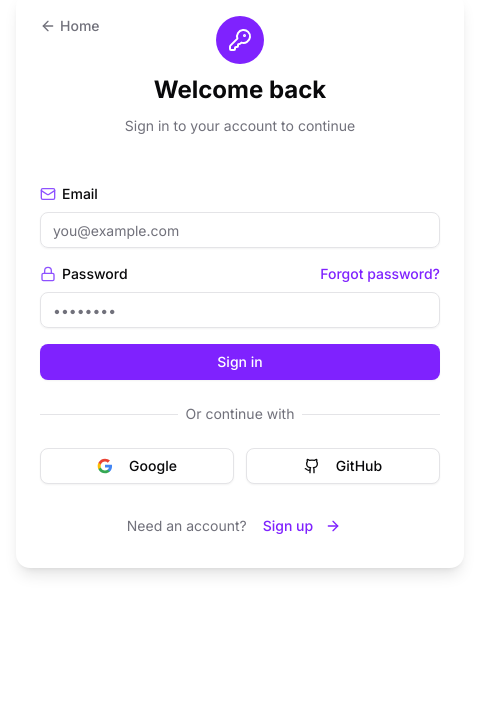
Test case: SignInForm › handles resend verification loading state
The image size is (481, 712).
Type "test@example.com" into the field labelled "Email" at (240, 230), box [40,212,440,248]
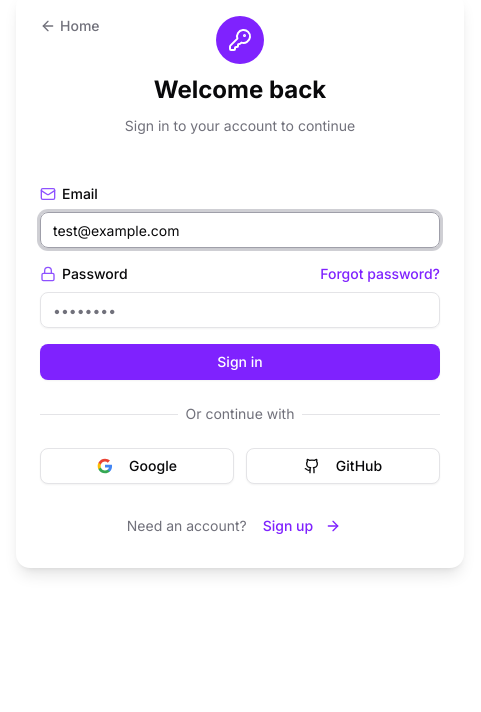
Type "Password123!" into the password field labelled "Password" at (240, 310), box [40,292,440,328]
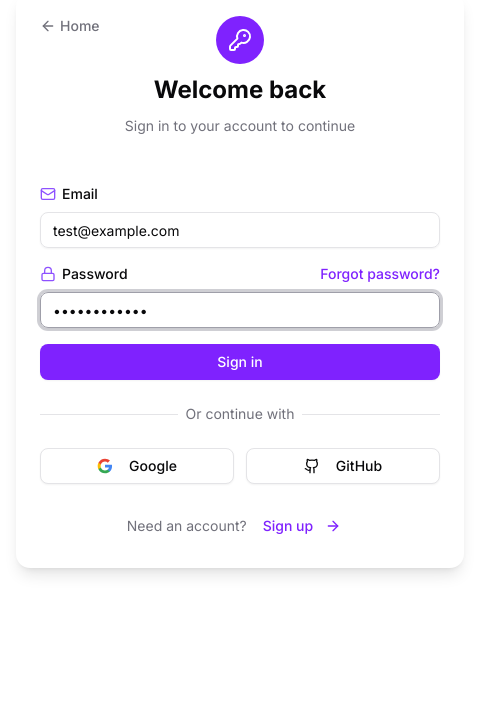
Click the button "Sign in" at (240, 362), box [40,344,440,380]
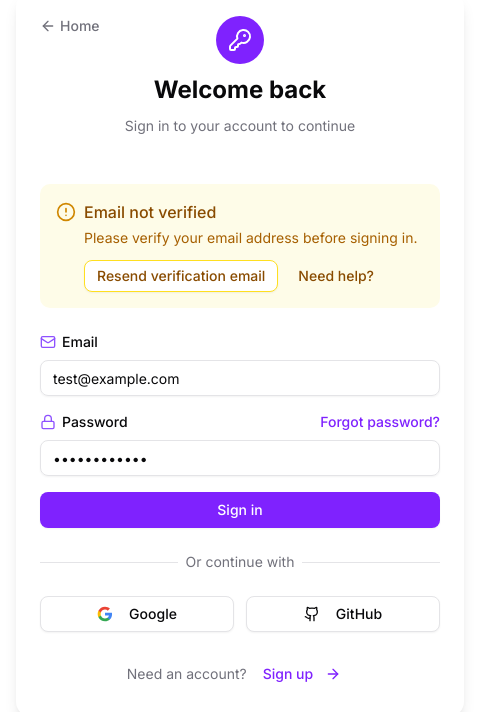
Now the text "Email not verified" is shown, box [84,202,216,222]
Click the button "Resend verification email" at (181, 276), box [84,260,278,292]
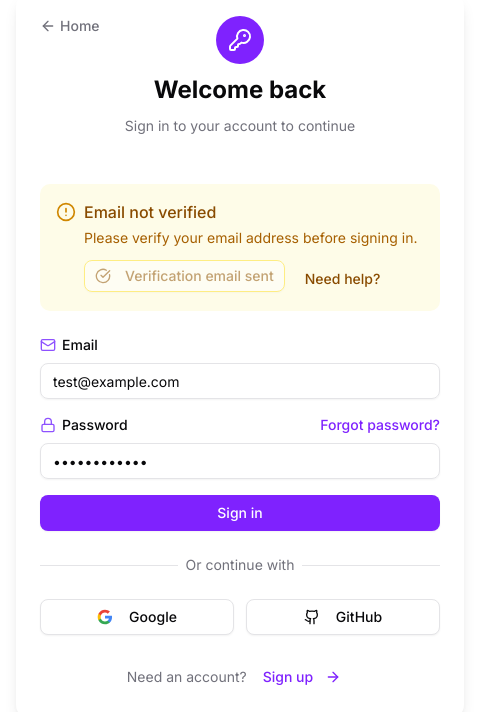
Now the button "Sending..." is disabled, box [84,260,285,292]
